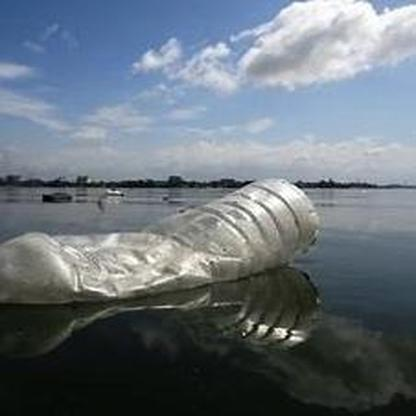plastic bottle: (3, 180, 322, 303)
